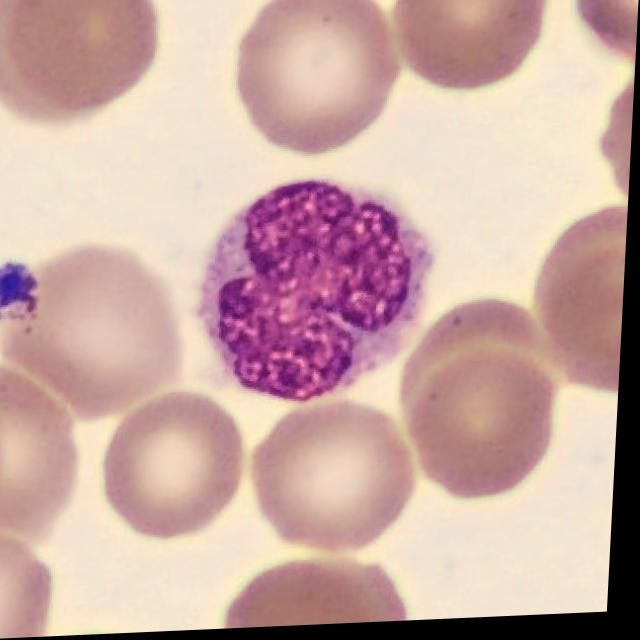Monocito: (206, 184, 435, 400)
